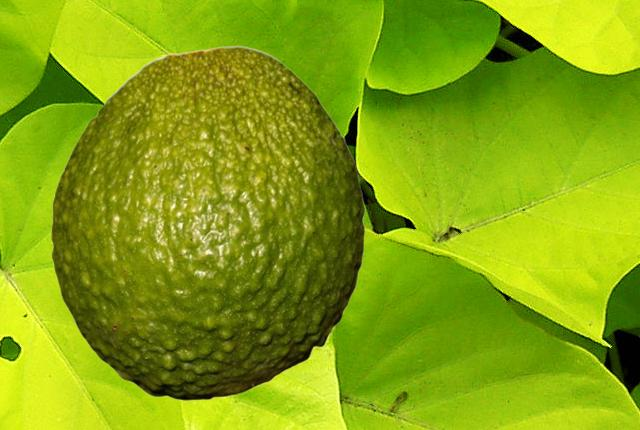avocado: (50, 45, 364, 399)
